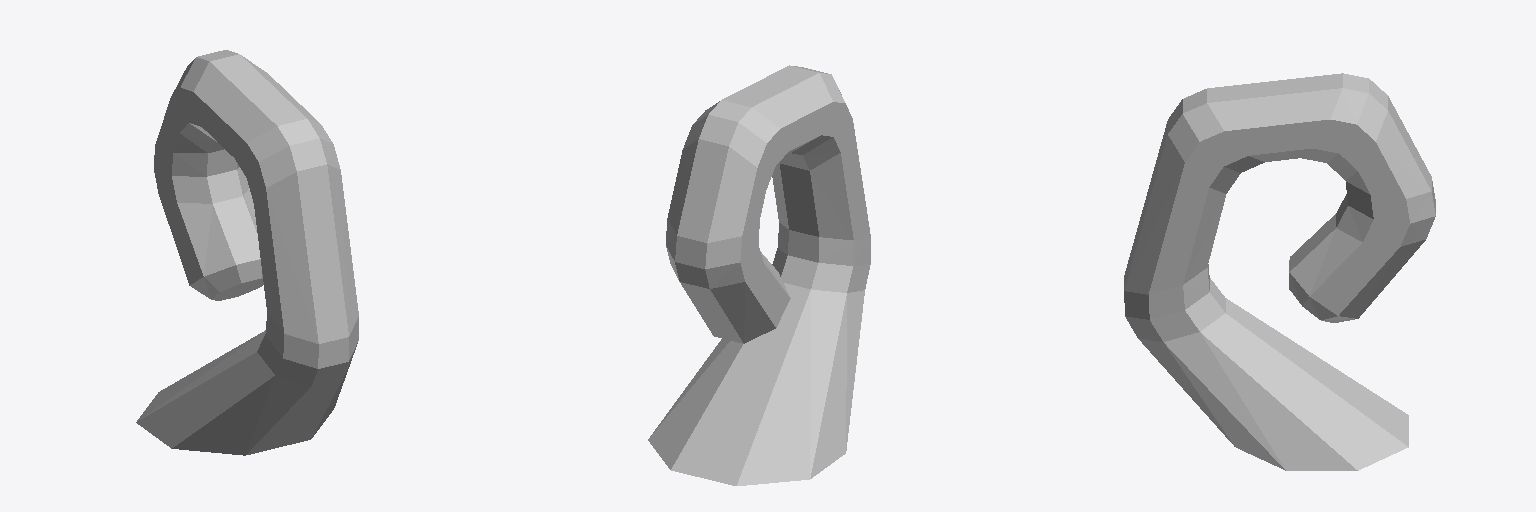
Rendered from Vine_2_3.obj.
3 renders of one model, left to right at view 1: azimuth 30°, elevation 25°; view 2: azimuth 150°, elevation 25°; view 3: azimuth 270°, elevation 25°, orthographic.
Parts seen in each view (by area): view 1: Vine_2_3; view 2: Vine_2_3; view 3: Vine_2_3.
Boxes of the visible parts, x1,y1,x2,y2 form: Vine_2_3: [136, 50, 358, 455]; Vine_2_3: [648, 65, 870, 485]; Vine_2_3: [1124, 73, 1435, 470].
Size of the model in its own units: 0.1341 by 0.2766 by 0.2229.